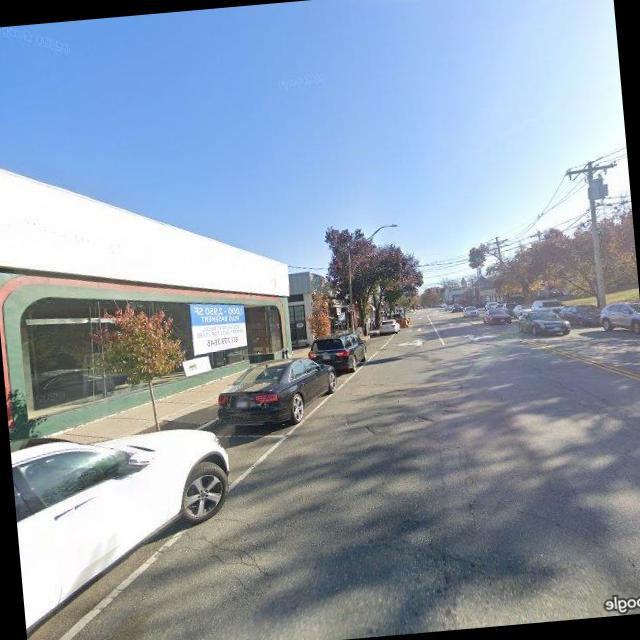crack: (173, 512, 273, 594)
pothole: (408, 409, 438, 426), (362, 423, 378, 438)
